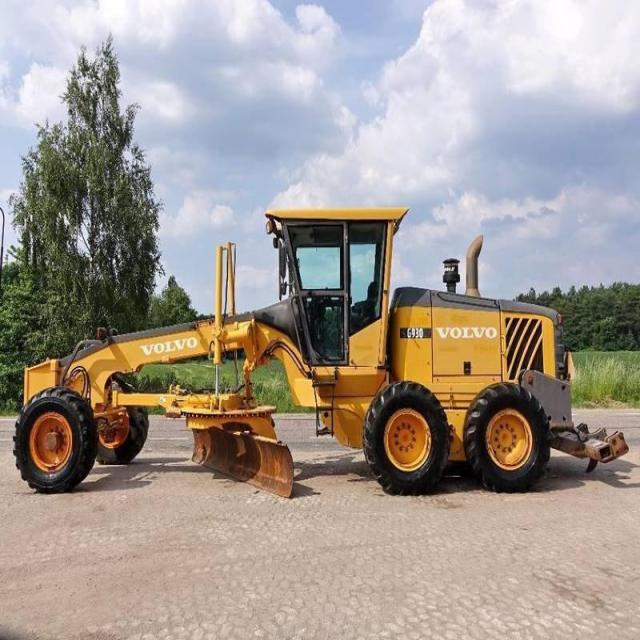Grader: (11, 196, 585, 513)
